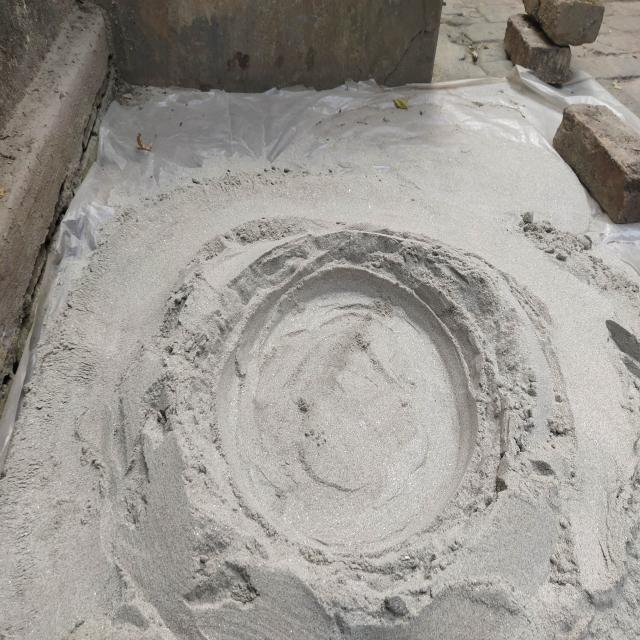C40: (219, 268, 476, 552)
